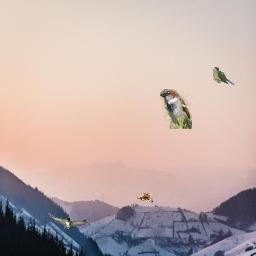Cuckoo: (213, 67, 236, 85)
Sparrow: (160, 89, 192, 129), (136, 193, 153, 203)
Swallow: (48, 213, 88, 230)
